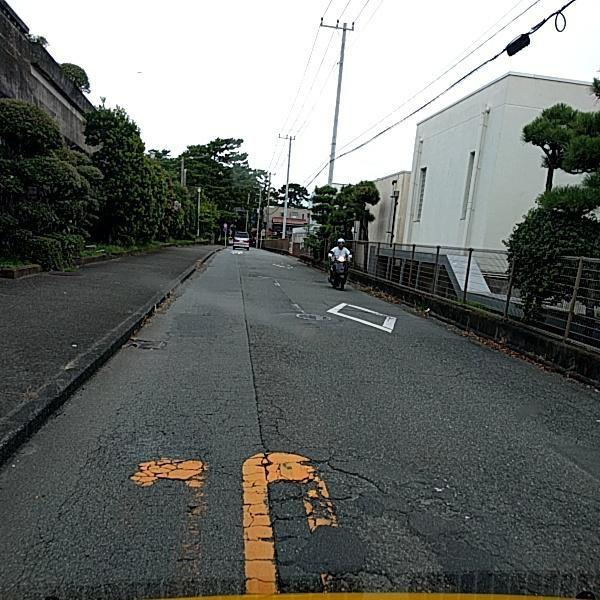pothole: (123, 326, 165, 351)
